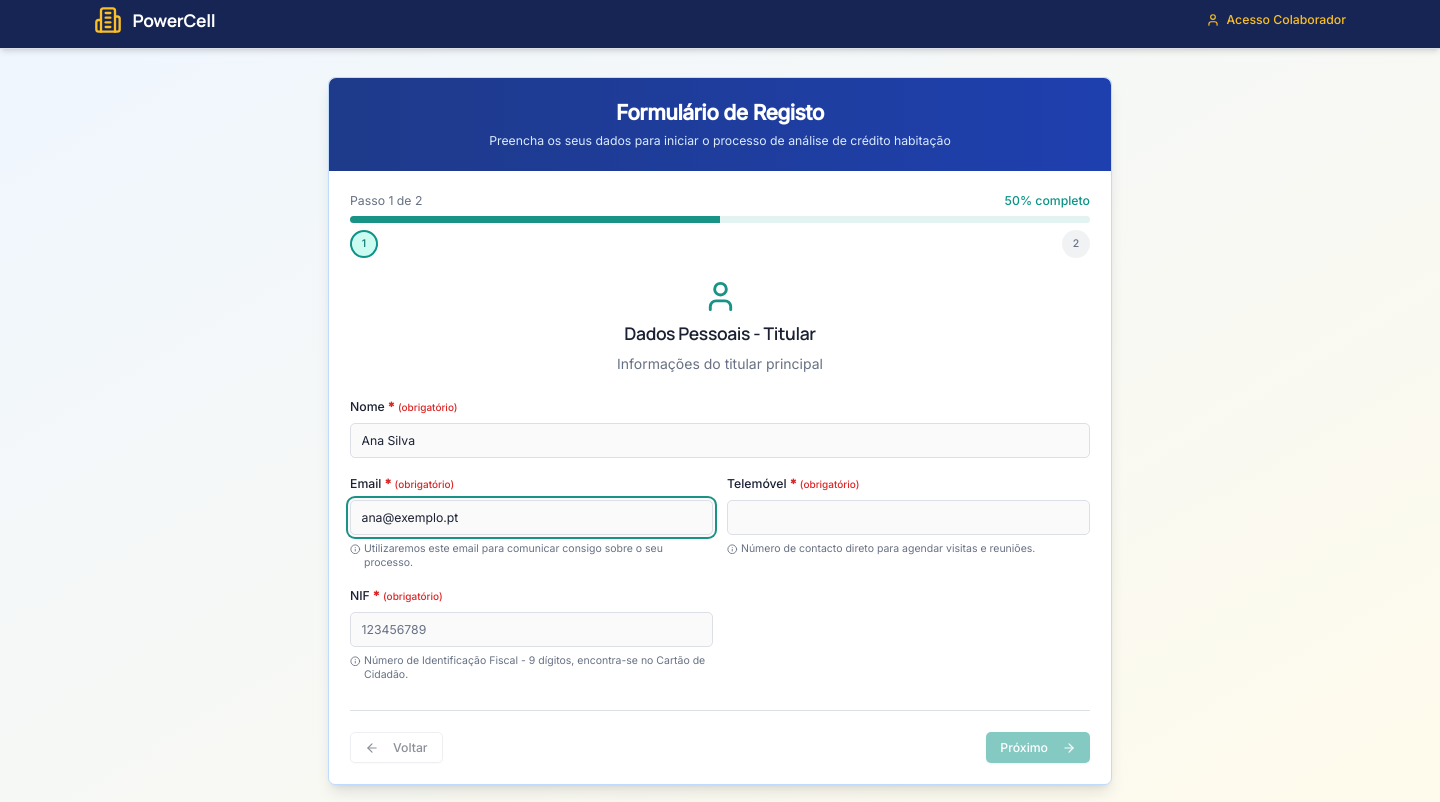
PublicClientForm — registo duplicado (D-38) › um 409 do servidor mostra o aviso claro e não passa ao ecrã de sucesso
Earlier steps of the test are not shown.
Step 1. Type "912345678" into the field labelled "Telemóvel *(obrigatório)" → (908, 517), box left=727, top=500, right=1090, bottom=535
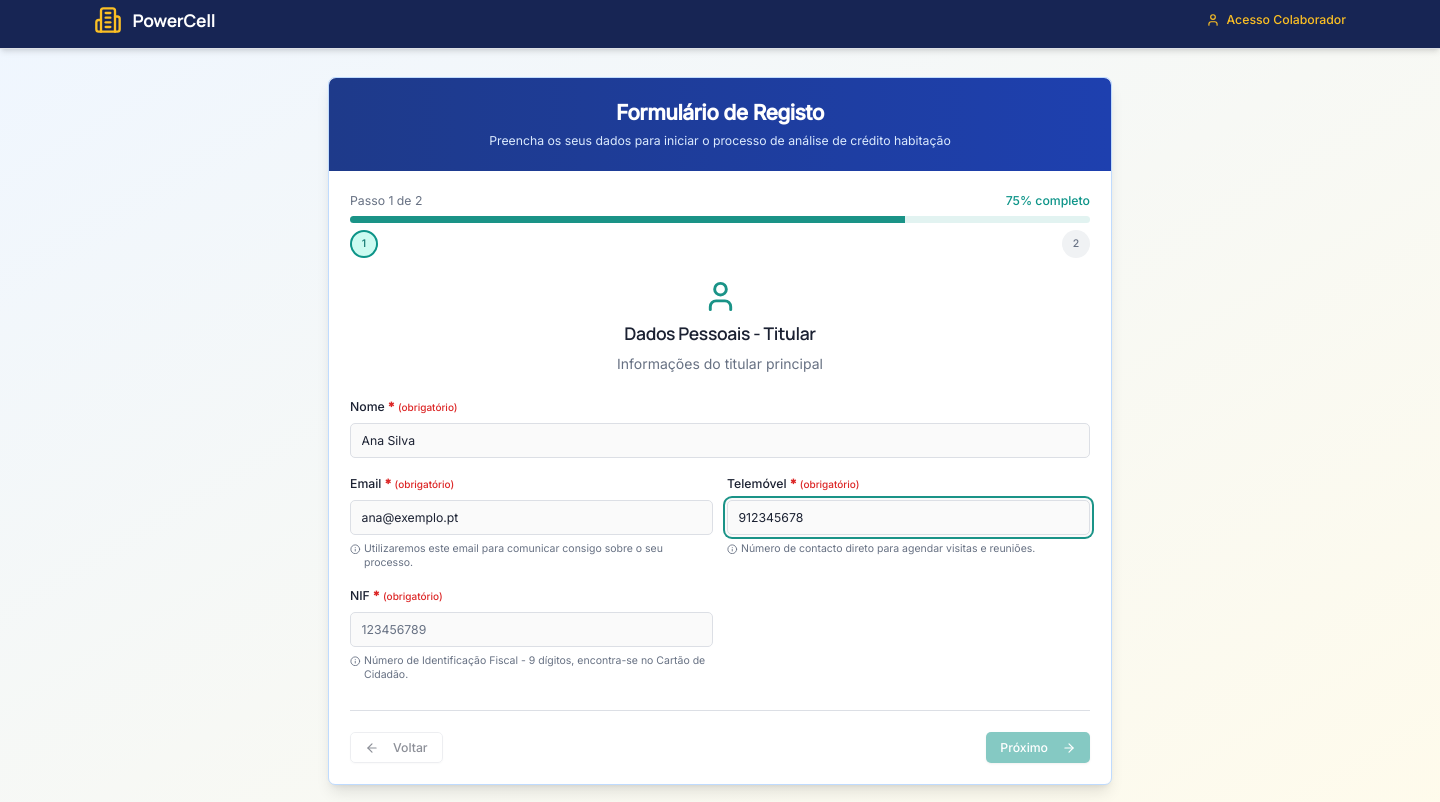
Step 2. Type "200000004" into the field labelled "NIF *(obrigatório)" → (532, 629), box left=350, top=612, right=713, bottom=647
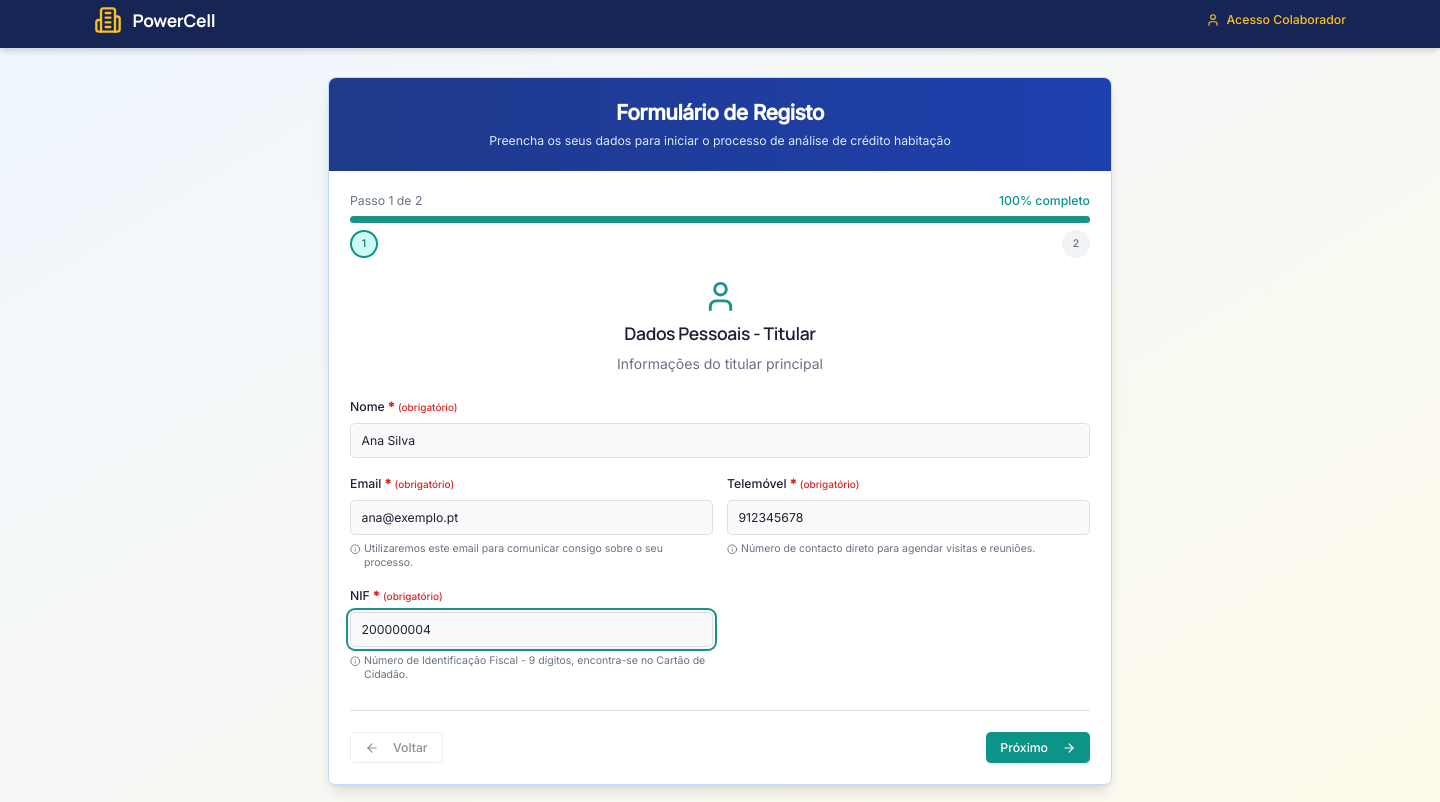
Step 3. Click the button "Próximo" → (1038, 748), box left=986, top=732, right=1090, bottom=763
(page scrolled)
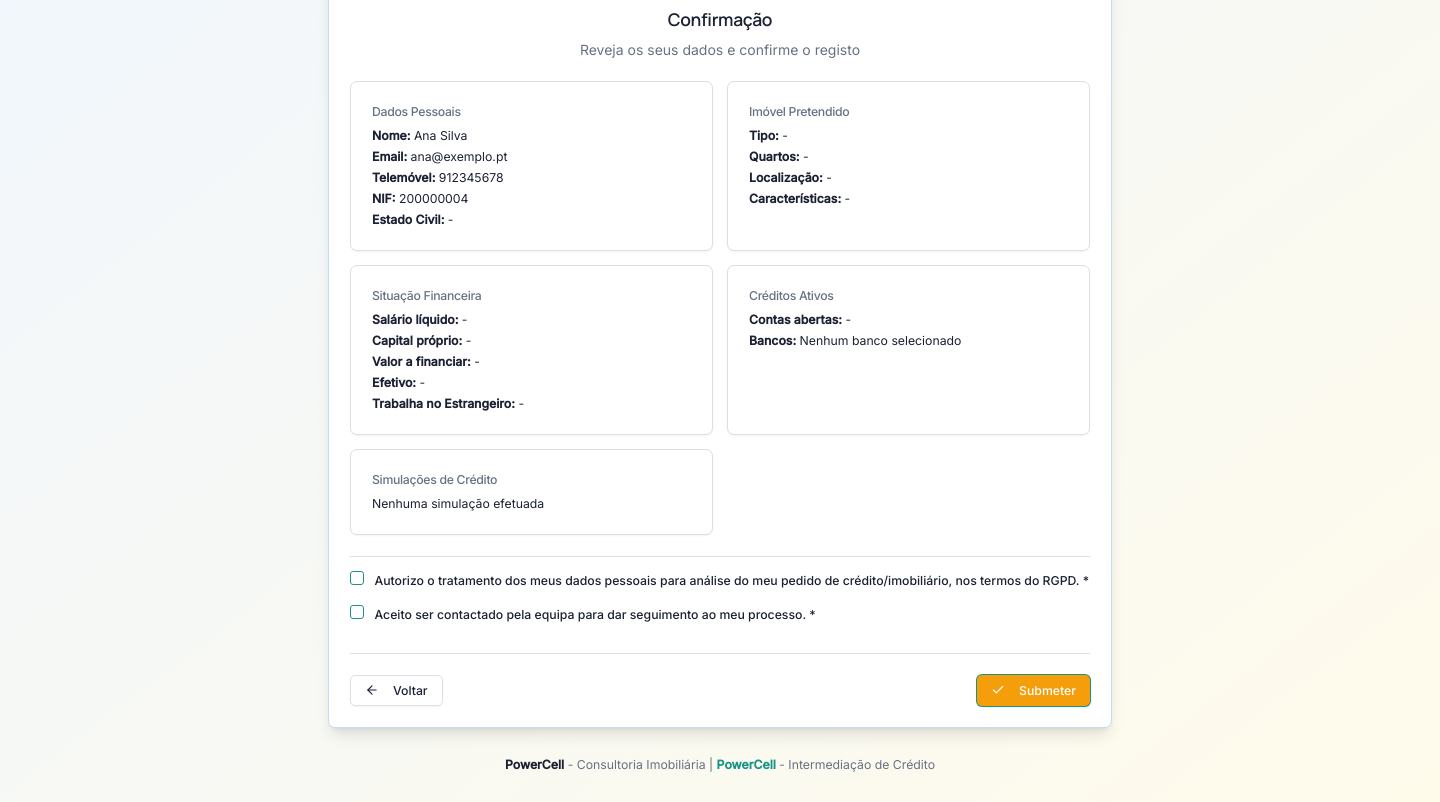
Step 4. Click the 1st checkbox → (357, 578), box left=350, top=571, right=364, bottom=585
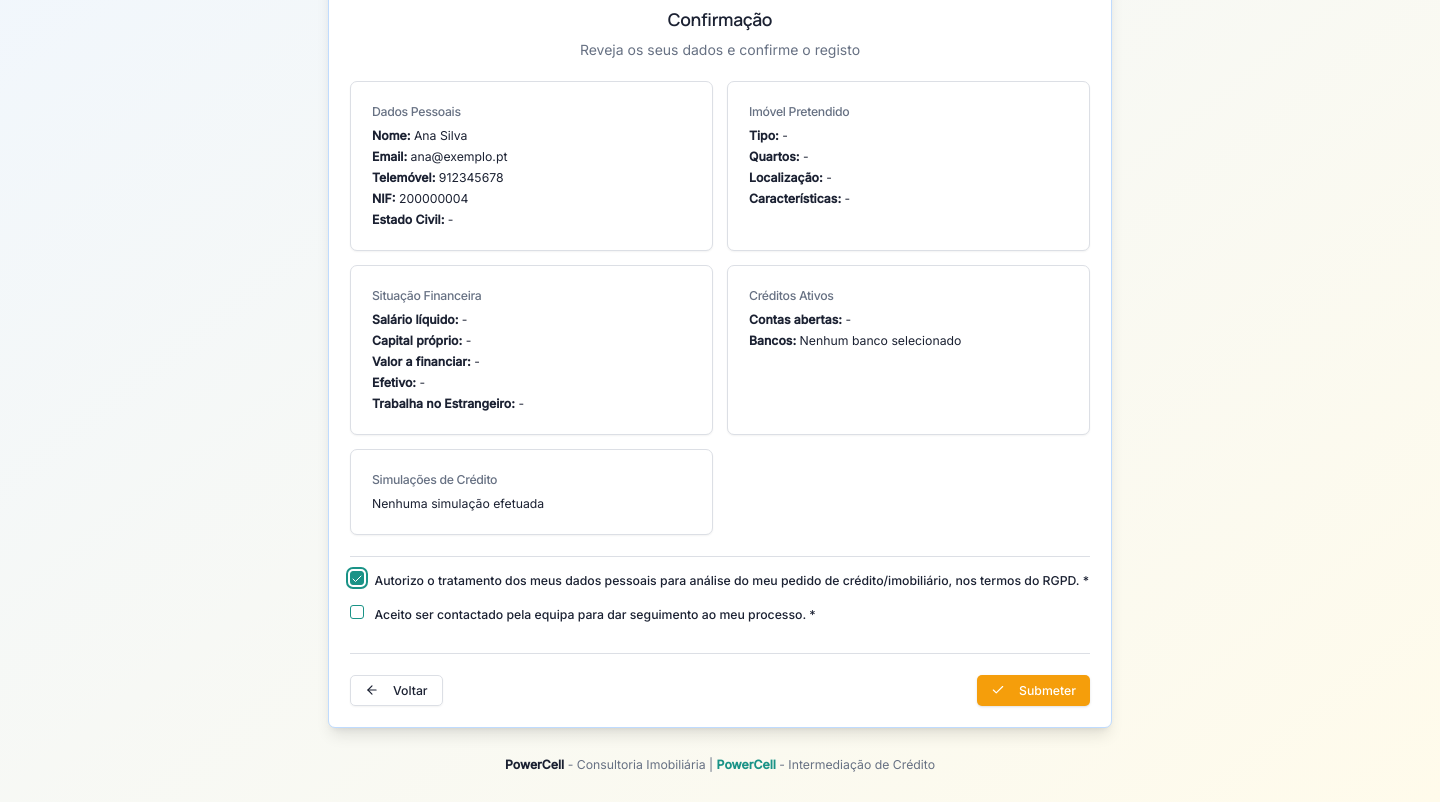
Step 5. Click the 2nd checkbox → (357, 612), box left=350, top=605, right=364, bottom=619
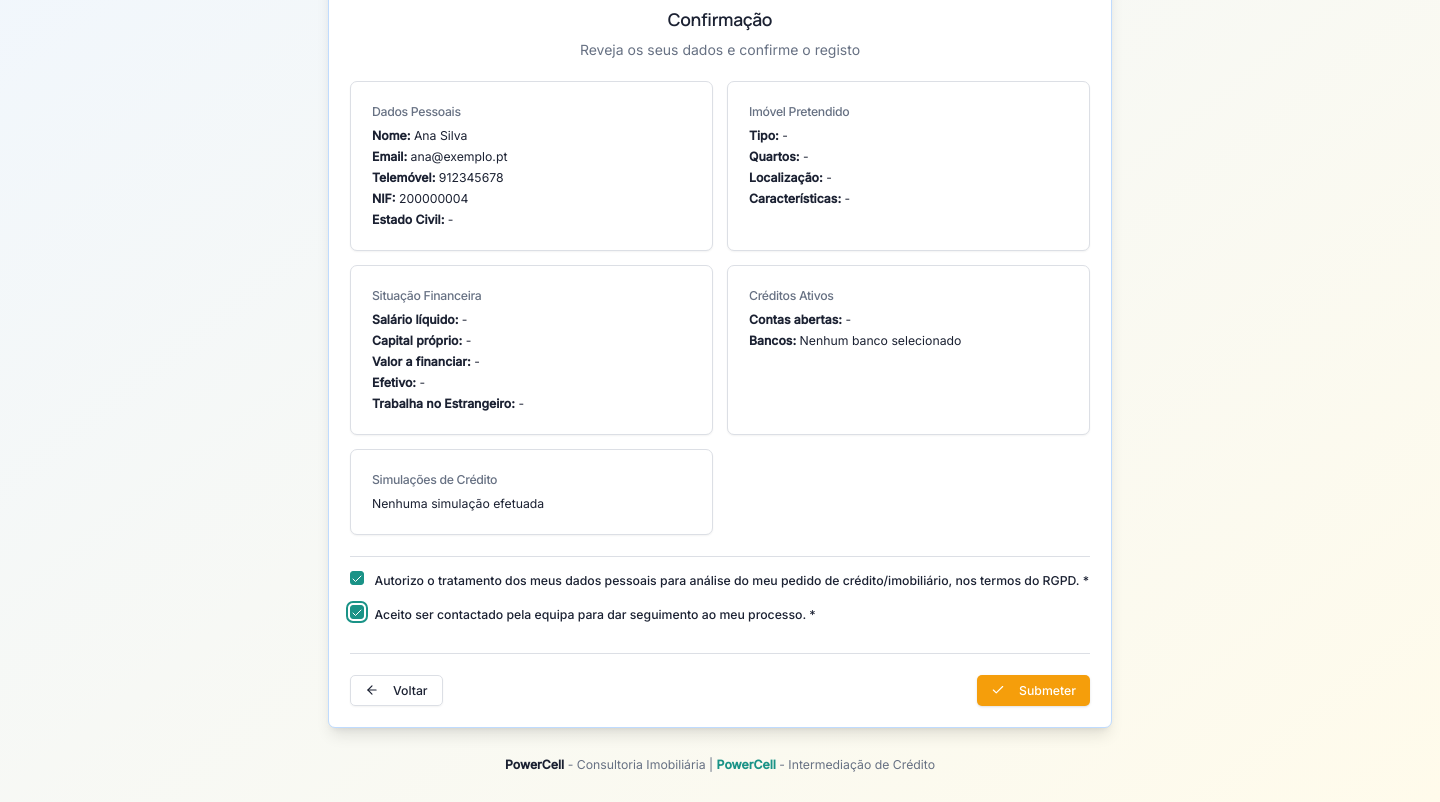
Step 6. Click the button "Submeter" → (1034, 690), box left=977, top=675, right=1090, bottom=706
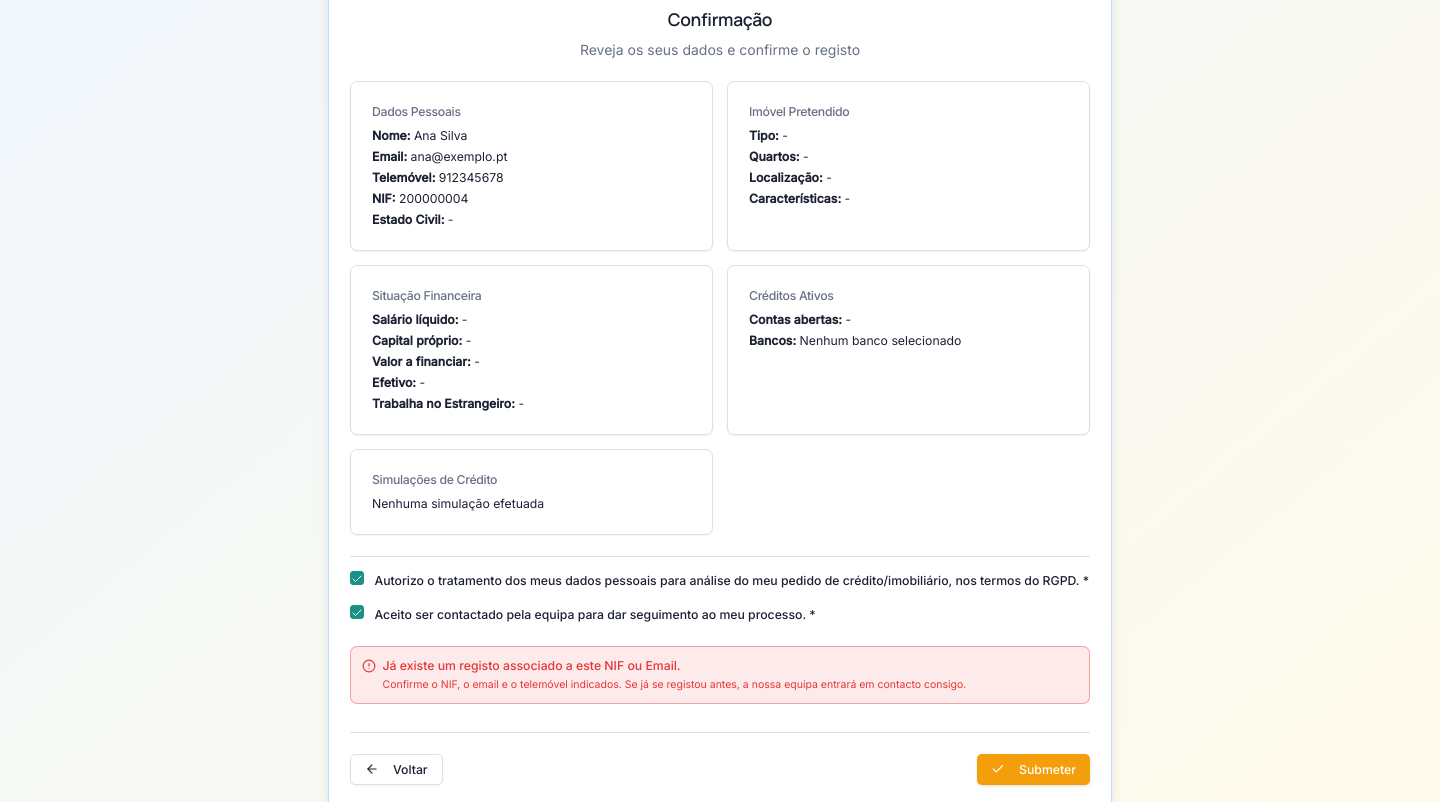
Expected: the button "Voltar" is shown, left=350, top=754, right=443, bottom=785
Expected: the button "Submeter" is shown, left=977, top=754, right=1090, bottom=785
Expected: the message with test id "registo-duplicado" shows "Já existe um registo associado a este NIF ou Email.", left=382, top=658, right=681, bottom=673
